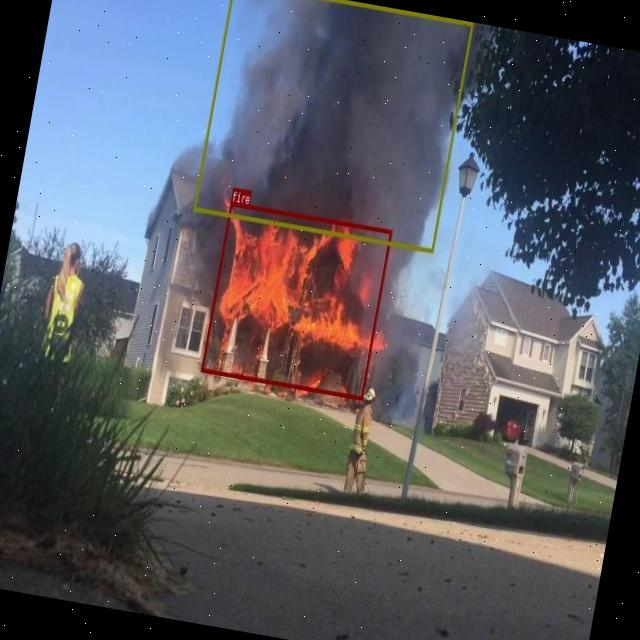fire: (200, 200, 392, 400)
smoke: (192, 0, 473, 251)
